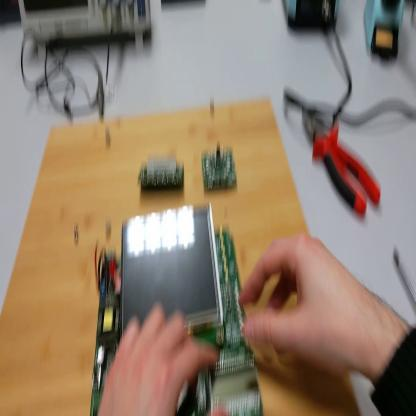hand: (237, 233, 376, 373), (98, 310, 229, 416)
low voltage board: (91, 203, 267, 415)
oscilloscope: (18, 1, 154, 58)
oscilloscope probe tip: (99, 65, 106, 121)
pliers: (308, 108, 382, 217)
screwdriver-: (395, 250, 416, 313)
socket: (2, 2, 22, 30)
welder base: (365, 2, 405, 66)
welder station: (284, 1, 341, 35)
working area: (2, 92, 362, 416)
